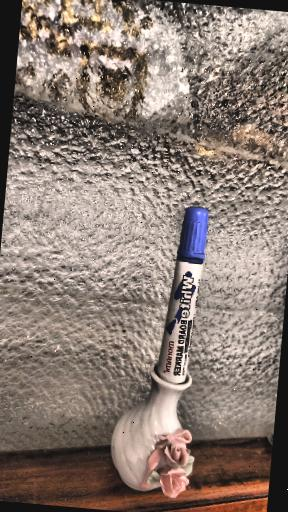marcador azul: (156, 206, 208, 383)
